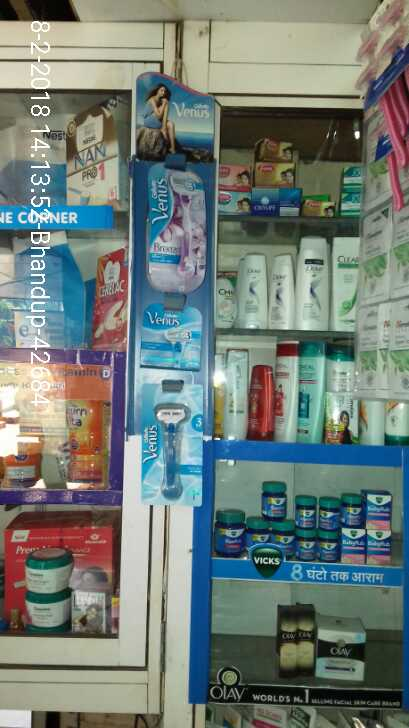beauty: (145, 163, 207, 295), (141, 384, 201, 506), (139, 303, 200, 371), (317, 630, 365, 680), (294, 610, 316, 677), (277, 609, 295, 676)
pharmacy: (214, 509, 247, 551), (262, 479, 290, 521), (367, 493, 393, 534), (341, 494, 367, 527), (342, 528, 364, 562), (368, 530, 392, 561), (294, 496, 316, 526), (247, 516, 270, 544), (318, 497, 339, 527), (298, 529, 318, 560), (319, 531, 340, 560), (273, 520, 292, 549)
